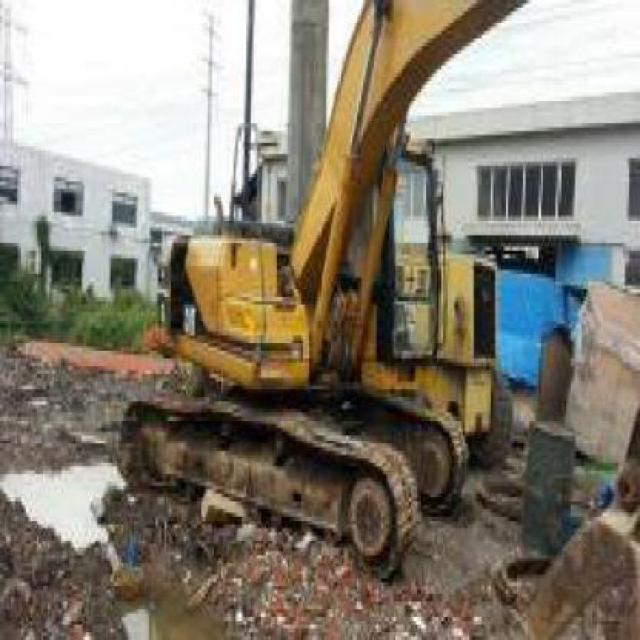Excavator: (112, 0, 529, 575)
